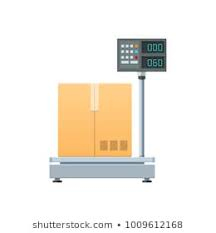Industrial Scale: (48, 36, 167, 182)
